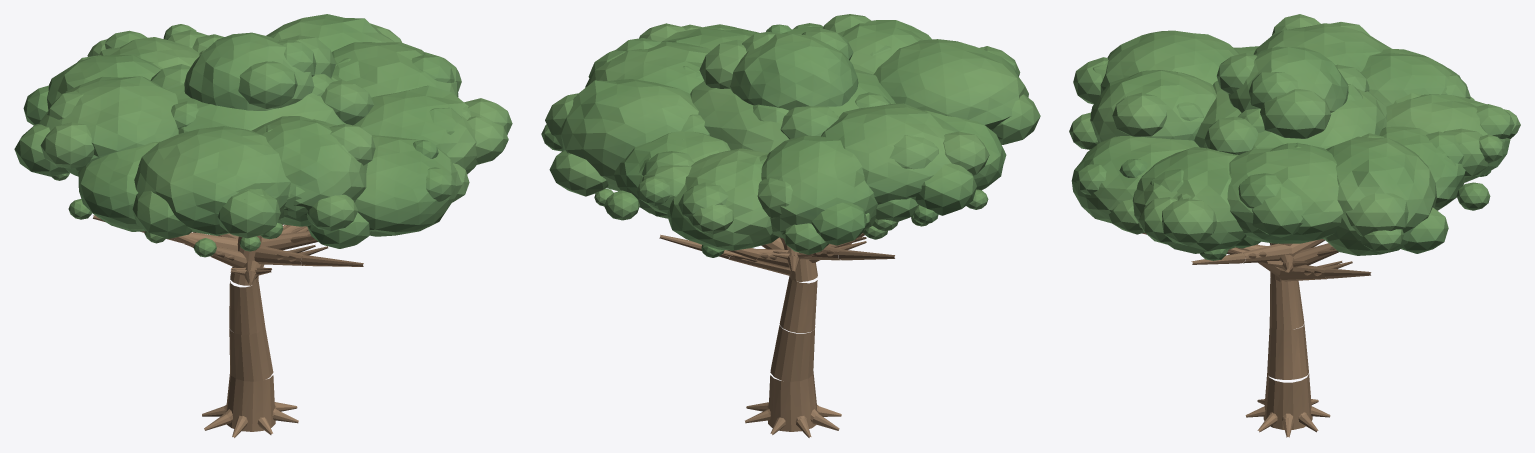
Rendered from tree_broad_upsized.glb.
3 renders of one model, left to right at view 1: azimuth 30°, elevation 25°; view 2: azimuth 150°, elevation 25°; view 3: azimuth 270°, elevation 25°, orthographic. The views are drawn at different scales.
Visible parts, largest first — view 1: world; view 2: world; view 3: world.
Boxes of the visible parts, x1,y1,x2,y2 form: world: [14, 14, 512, 437]; world: [541, 14, 1040, 437]; world: [1069, 14, 1520, 437].
Bounding box in the file's own units: 17.73 × 15.73 × 17.64.
